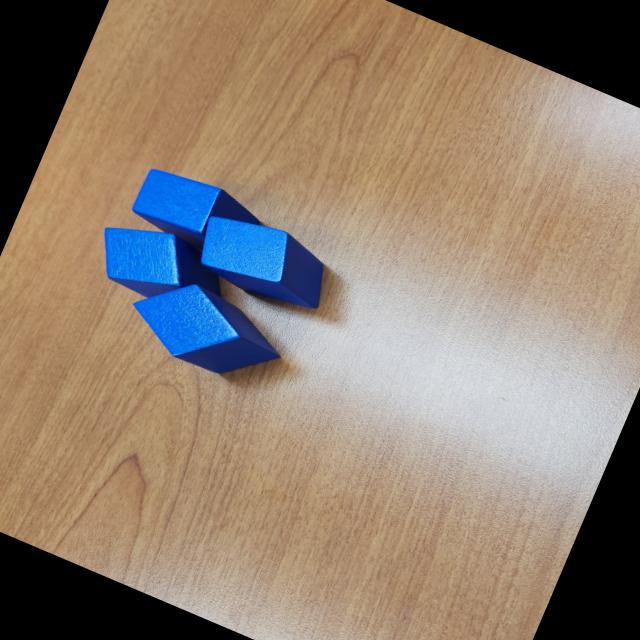blue: (119, 264, 294, 396), (186, 202, 340, 320), (86, 208, 237, 324), (127, 159, 267, 268)
